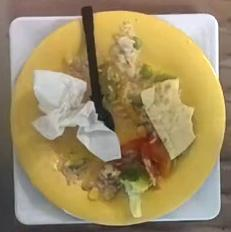rice_mix: (96, 164, 122, 200)
taco: (99, 22, 195, 159)
vegetables: (116, 135, 171, 177)
